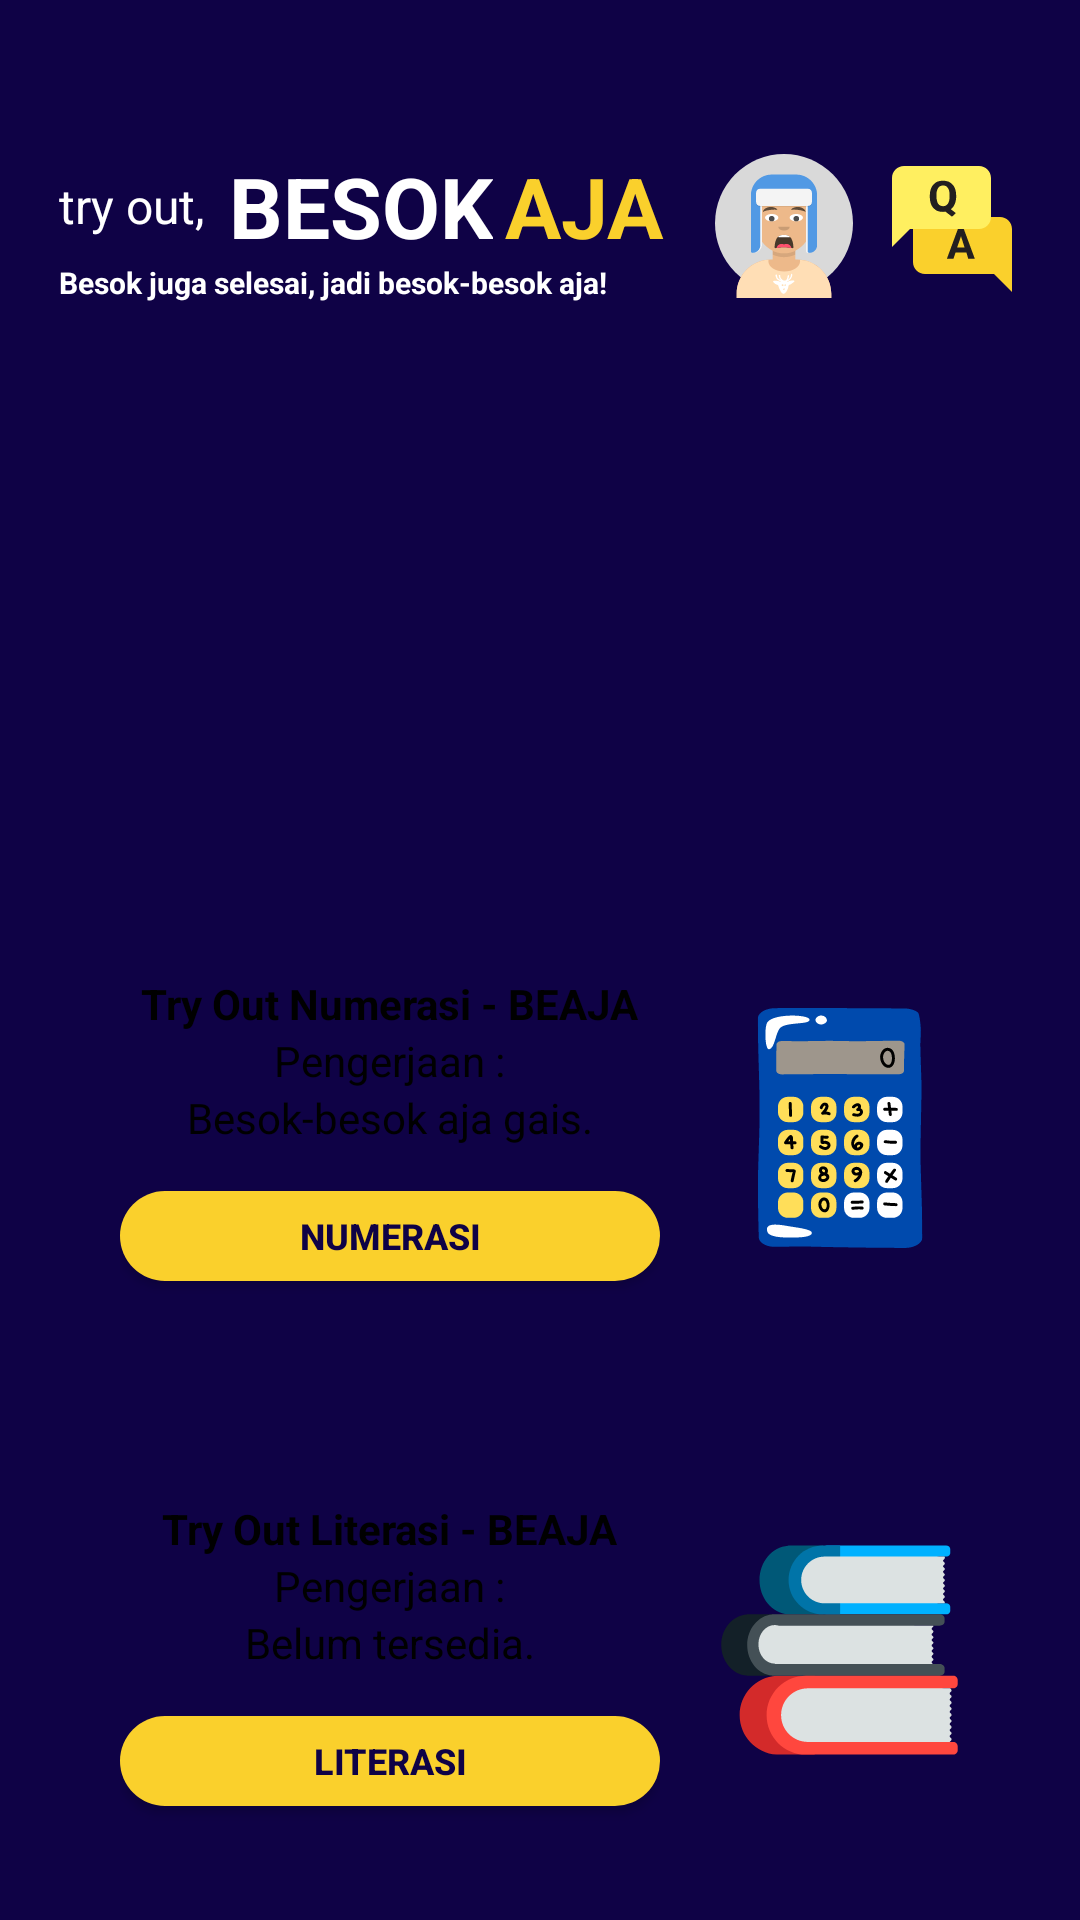

Named icons in this screenshot (1080px×1920px) and their bounding boxes, bbox=[x1, y1, x2, y2]:
books: bbox=[722, 1545, 958, 1755]
faq: bbox=[892, 166, 1012, 292]
profile: bbox=[715, 154, 853, 298]
